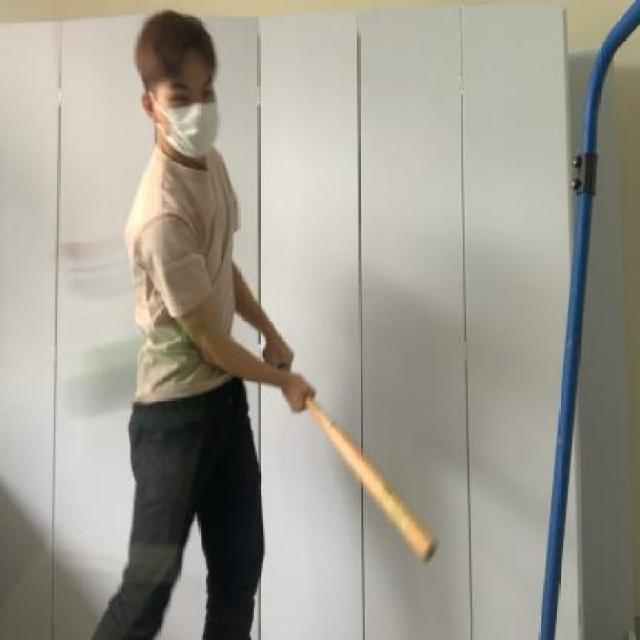baseball: (53, 305, 176, 427)
